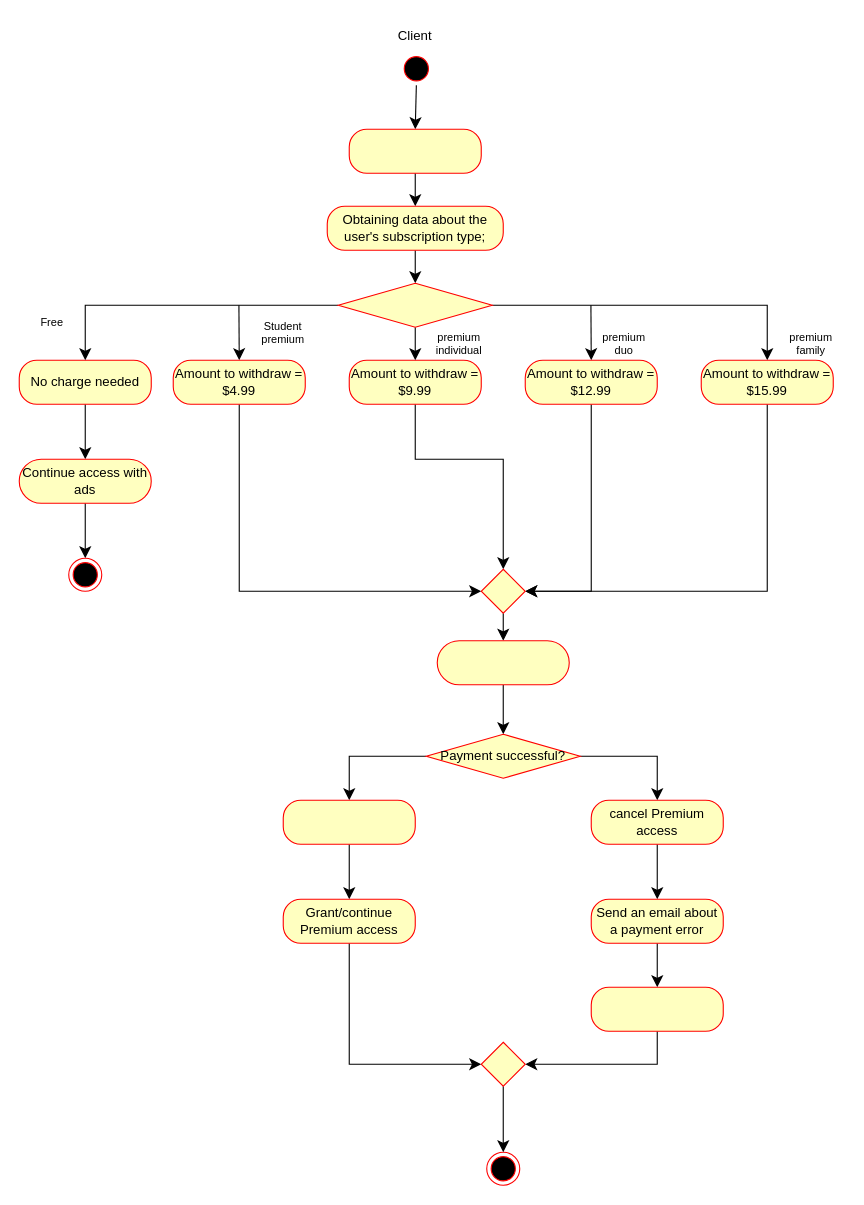
This 864x1205 diagram has some shape labels left out. Here are the shapes that lost their labels. From the top down, the centre of each, then its label:
At [414,150]: "Initialization of the settlement period".
At [414,304]: "Subscription type?".
At [502,662]: "An attempt to withdraw funds from a linked card".
At [348,821]: "Update subscription status (Active)".
At [656,1008]: "Transfer the user to the Free plan".
